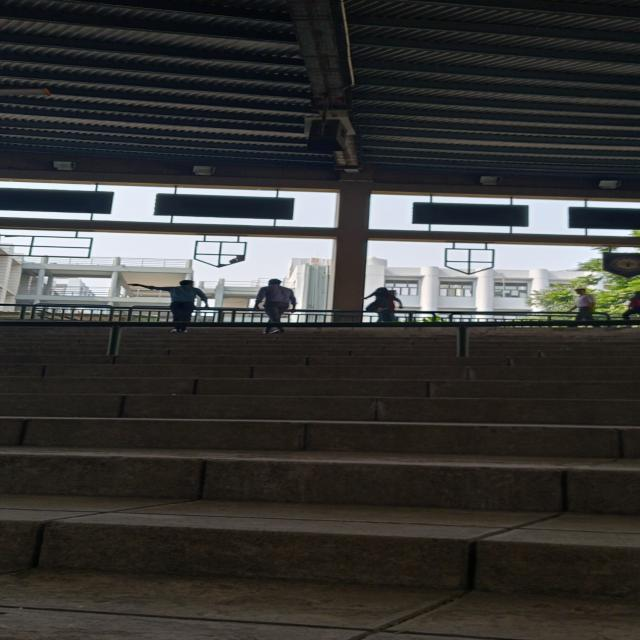unsafe: (245, 278, 300, 334), (157, 280, 208, 332), (566, 287, 600, 328), (365, 287, 398, 323)
